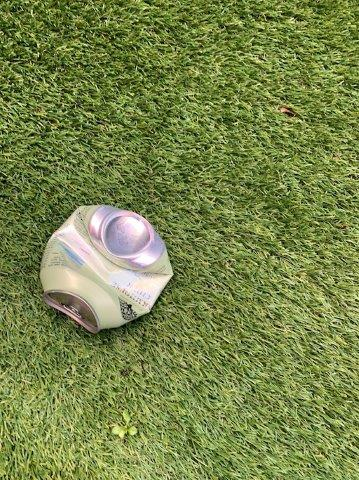kaleng: (41, 207, 172, 332)
